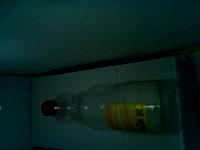bottle: (37, 77, 178, 136)
